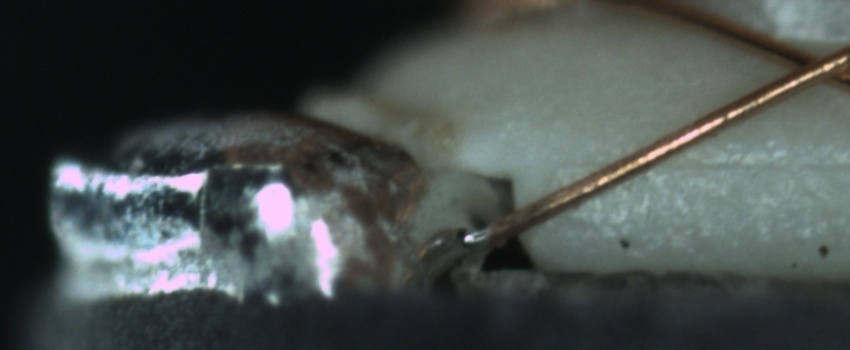CL: (765, 34, 849, 96)
DL: (570, 132, 845, 196)
